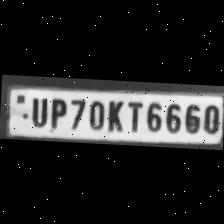0: (84, 96, 106, 132), (199, 100, 221, 134)
6: (141, 99, 163, 134), (162, 99, 182, 133), (181, 100, 201, 134)
7: (64, 96, 86, 130)
K: (102, 97, 125, 132)
P: (46, 94, 68, 130)
T: (124, 97, 144, 133)
U: (26, 94, 48, 128)
